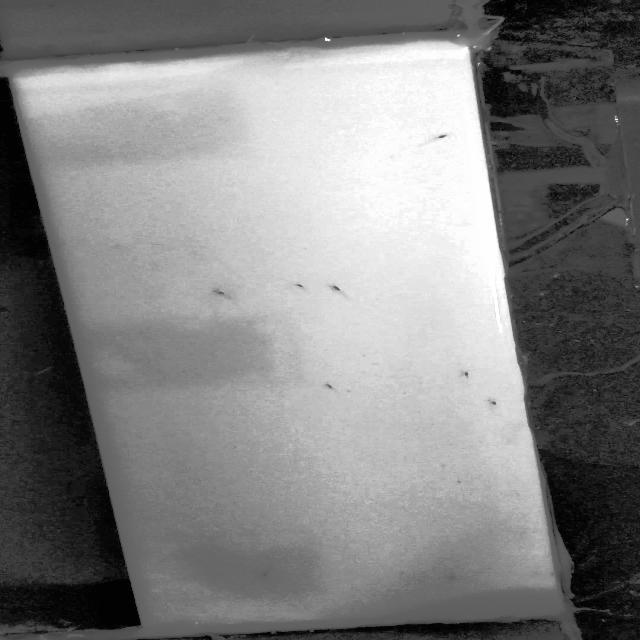shrimp: (321, 279, 361, 301), (207, 286, 247, 306), (253, 558, 281, 579), (294, 279, 316, 299), (420, 132, 452, 143), (444, 569, 465, 585), (318, 381, 344, 393), (458, 368, 476, 384), (481, 394, 502, 407)
